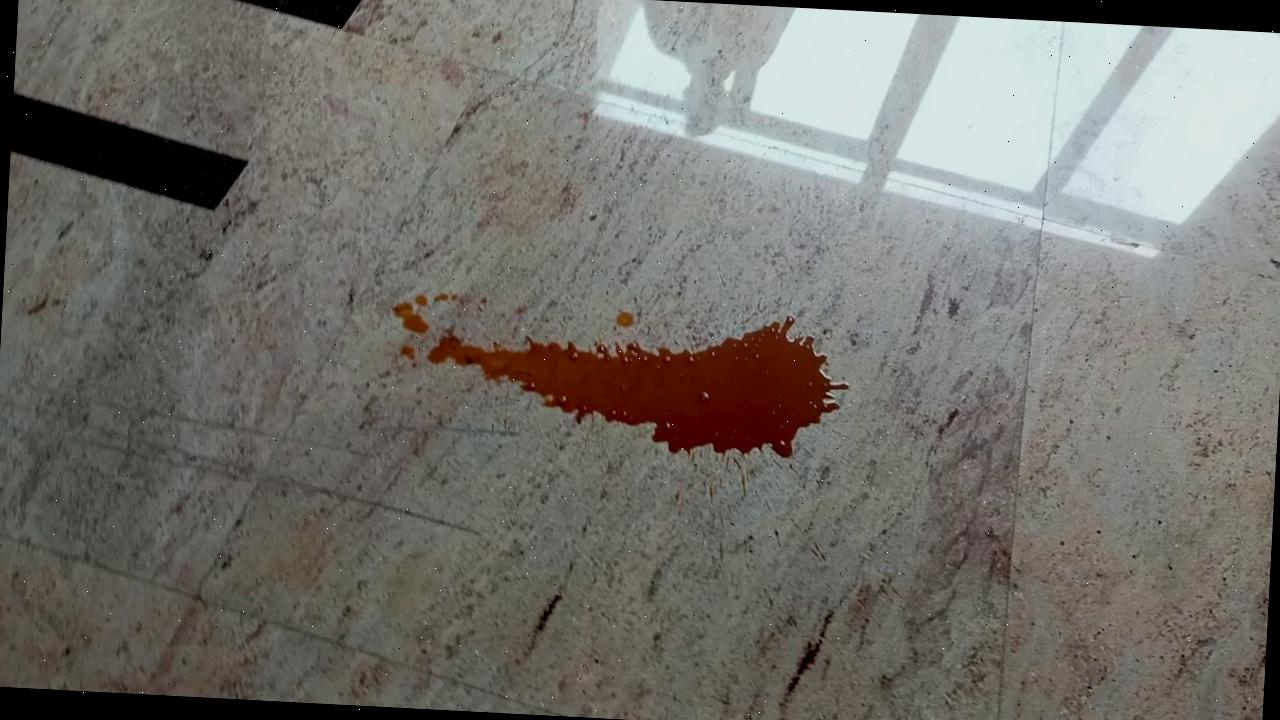dirty_floor: (388, 288, 854, 462)
